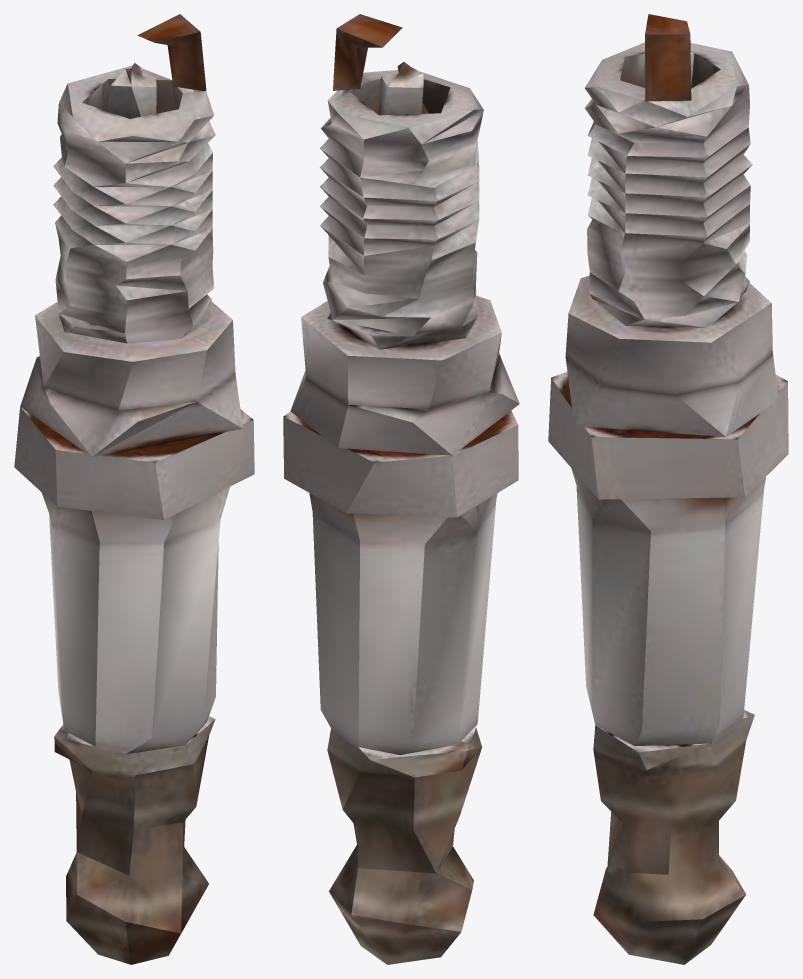
The model's file is spark_plug.glb.
The picture shows the model from 3 angles, left to right: view 1: azimuth 30°, elevation 25°; view 2: azimuth 150°, elevation 25°; view 3: azimuth 270°, elevation 25°; orthographic projection. The views are drawn at different scales.
Parts seen in each view (by area): view 1: spark_plug; view 2: spark_plug; view 3: spark_plug.
Part boxes in pixels (bbox=[...]): spark_plug: bbox=[14, 14, 254, 964]; spark_plug: bbox=[283, 14, 519, 964]; spark_plug: bbox=[548, 14, 788, 964].
Size of what is drawn, in the model's own units: 0.0189 by 0.0895 by 0.0207.
1 material, 1 textured.
